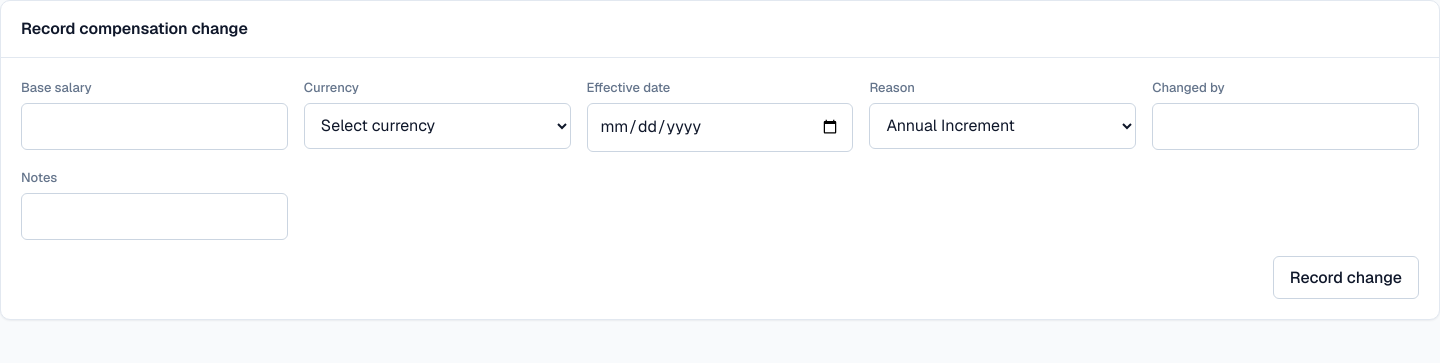
Scenario: RecordCompensationChangeForm › shows inline validation errors for invalid input
This screenshot has width=1440, height=363.
Click the button "Record change": (1346, 278) x1=1273 y1=256 x2=1419 y2=299
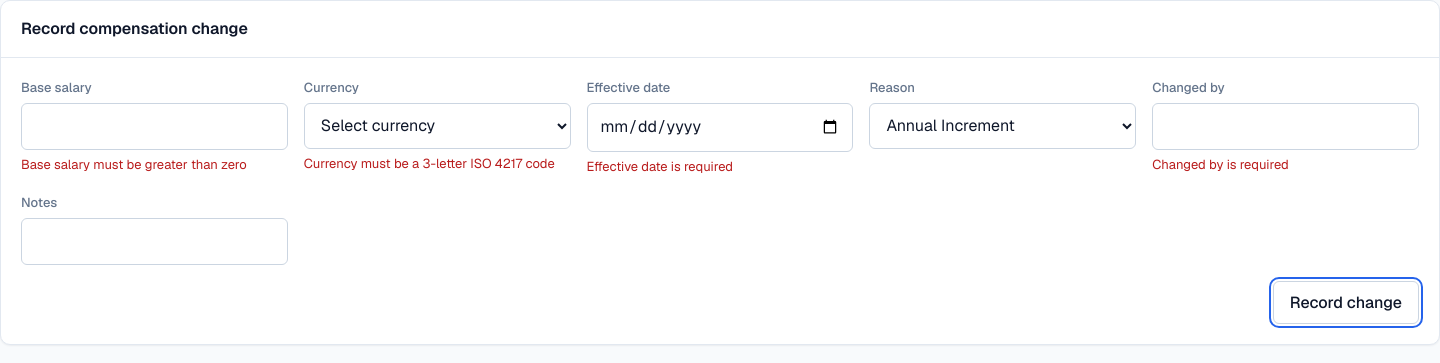
Expected: the text "Base salary must be greater than zero" is shown, x1=21 y1=156 x2=247 y2=174
Expected: the text "Effective date is required" is shown, x1=587 y1=158 x2=733 y2=176
